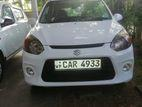car: (24, 0, 134, 86), (0, 3, 27, 60)
